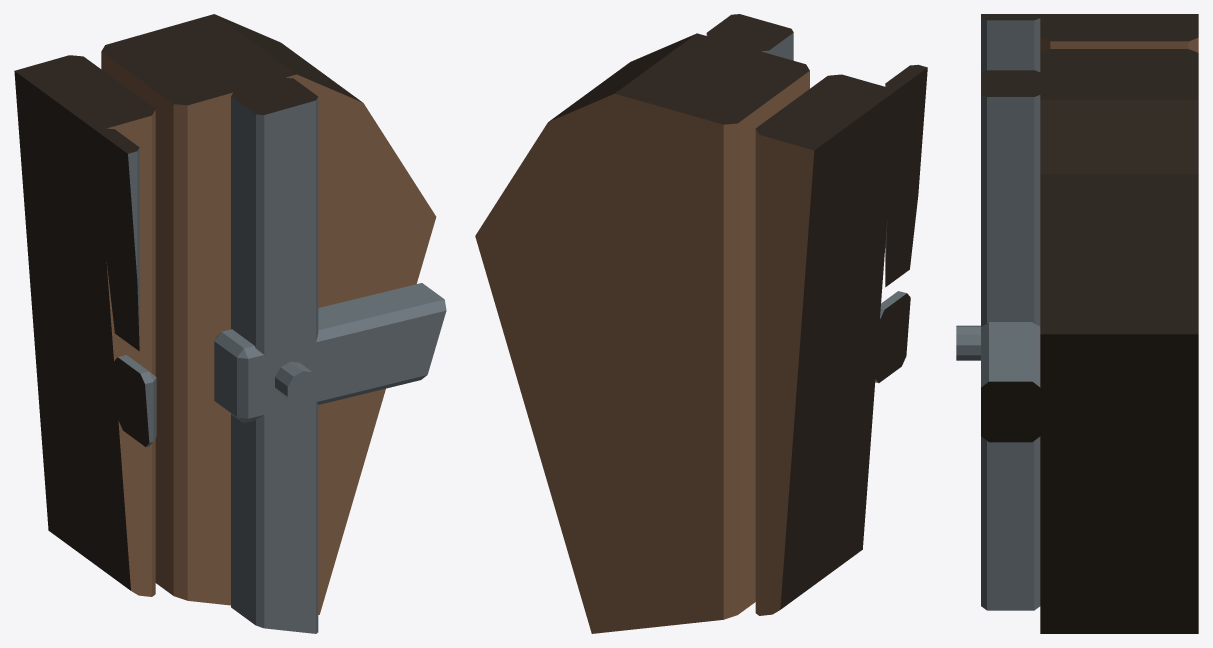
The model's file is SM_DoorShard_02_03.fbx.
3 views of the same model, side by side, from view 1: azimuth 30°, elevation 25°; view 2: azimuth 150°, elevation 25°; view 3: azimuth 270°, elevation 25° (orthographic). The views are drawn at different scales.
Visible parts, largest first — view 1: SM_DoorShard_02_03; view 2: SM_DoorShard_02_03; view 3: SM_DoorShard_02_03.
Part boxes in pixels (bbox=[...]): SM_DoorShard_02_03: bbox=[14, 14, 446, 633]; SM_DoorShard_02_03: bbox=[475, 14, 927, 633]; SM_DoorShard_02_03: bbox=[956, 14, 1198, 633].
Bounding box in the file's own units: 37.99 × 24.5 × 58.41.
